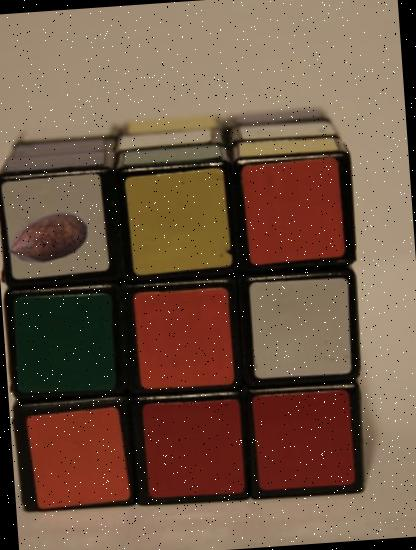Nut: (3, 193, 93, 283)
